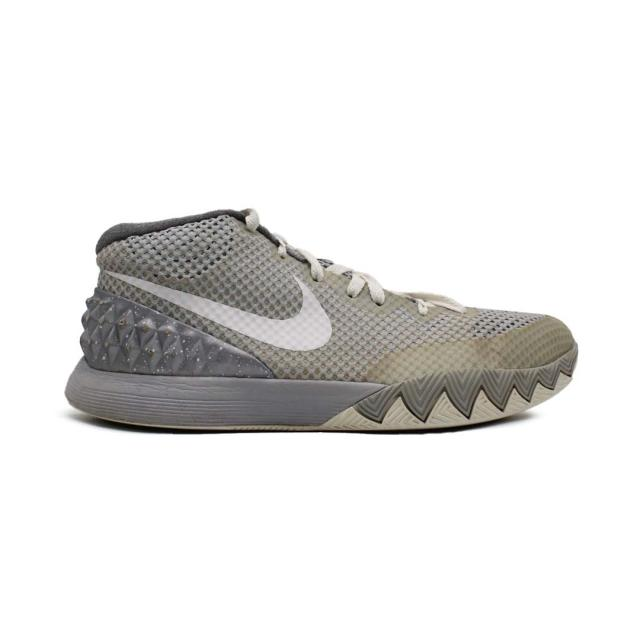heel: (83, 228, 153, 370)
midsole: (64, 341, 576, 431)
uppersole: (141, 210, 574, 386)
